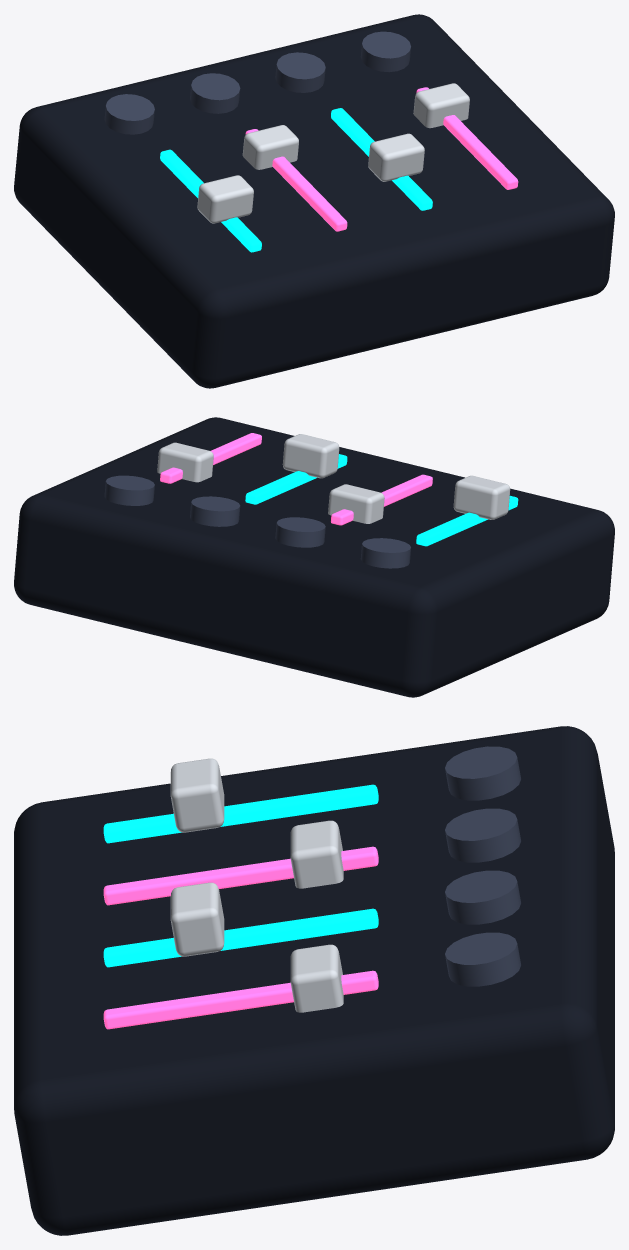
File: atelier-gaming-mixer-cyber.glb
The picture shows the model from 3 angles, top to bottom: view 1: azimuth 30°, elevation 25°; view 2: azimuth 150°, elevation 25°; view 3: azimuth 270°, elevation 25°; orthographic projection. The views are drawn at different scales.
Bounding box in the file's own units: 0.175 × 0.0664 × 0.1474.
